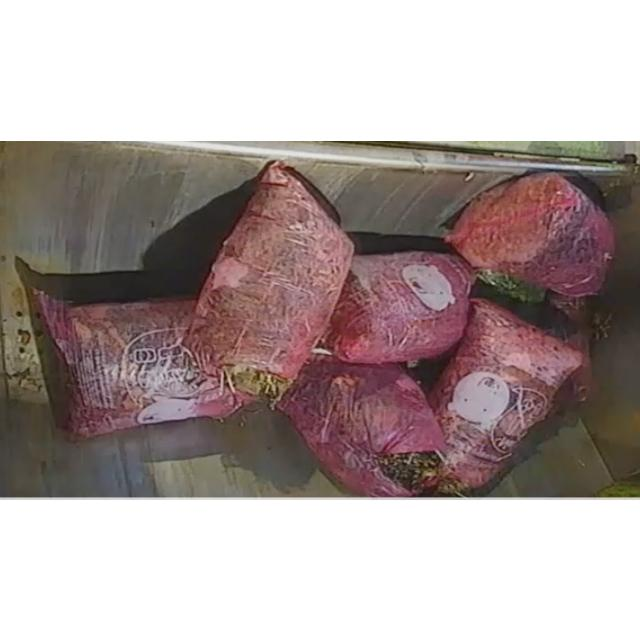other_trashbag: (185, 160, 354, 404), (31, 289, 252, 437), (429, 298, 582, 488), (279, 356, 445, 494), (445, 172, 614, 297), (326, 250, 474, 362)
